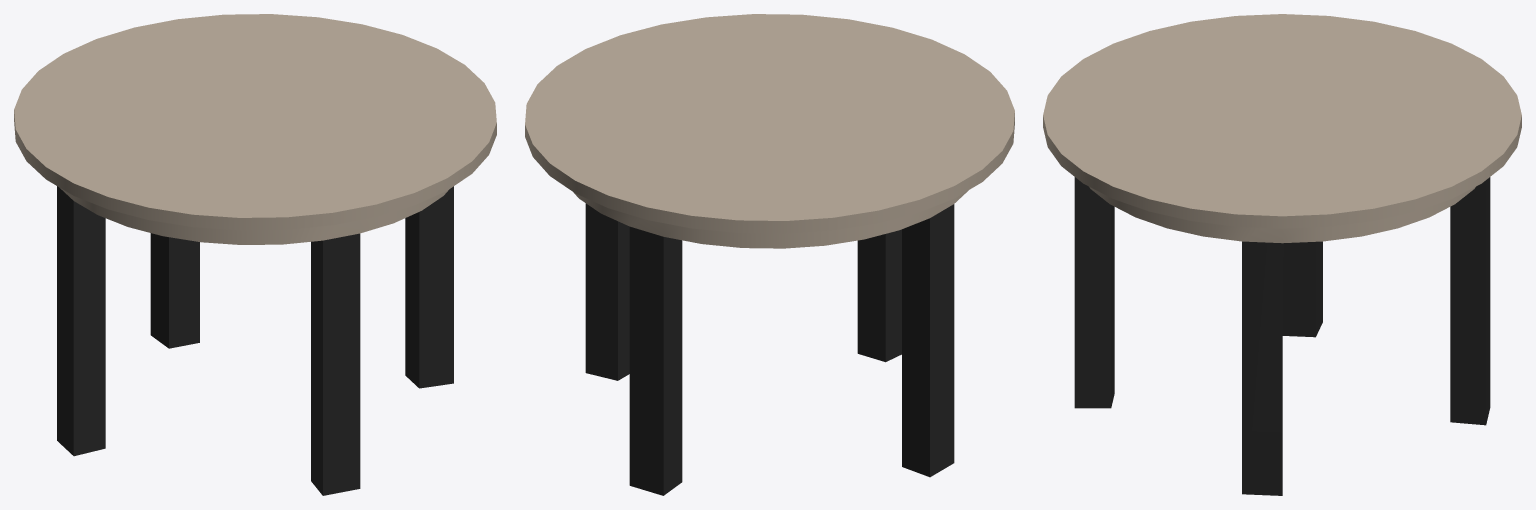
Rendered from TableRonde_13.fbx.
3 renders of one model, left to right at view 1: azimuth 30°, elevation 25°; view 2: azimuth 150°, elevation 25°; view 3: azimuth 270°, elevation 25°, orthographic. The views are drawn at different scales.
Parts seen in each view (by area): view 1: pCylinder1780; view 2: pCylinder1780; view 3: pCylinder1780.
Boxes of the visible parts, x1=… form: pCylinder1780: x1=14, y1=14, x2=496, y2=495; pCylinder1780: x1=525, y1=14, x2=1014, y2=495; pCylinder1780: x1=1043, y1=14, x2=1521, y2=495.
Bounding box in the file's own units: 45.25 × 30.55 × 45.25.
